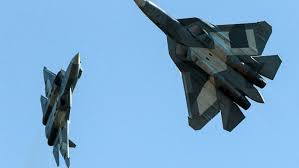fighter: (133, 1, 284, 135), (38, 46, 88, 166)
